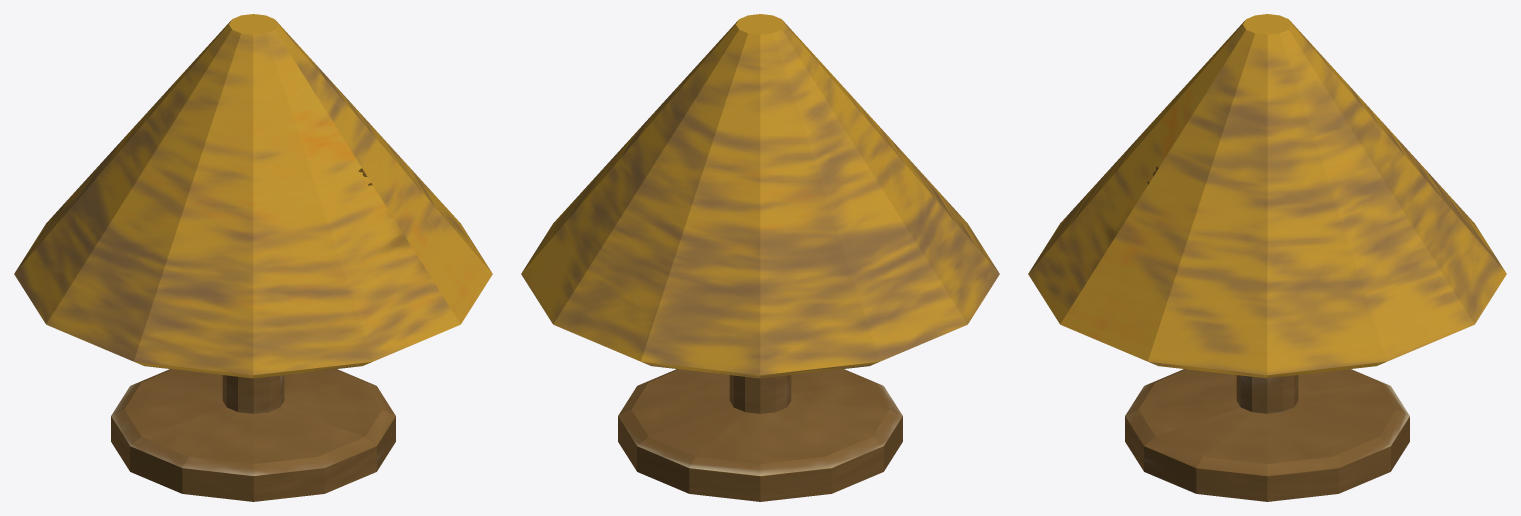
File: lampa.fbx
The picture shows the model from 3 angles, left to right: view 1: azimuth 30°, elevation 25°; view 2: azimuth 150°, elevation 25°; view 3: azimuth 270°, elevation 25°; orthographic projection.
Visible parts, largest first — view 1: Lampa; view 2: Lampa; view 3: Lampa.
Boxes of the visible parts, bbox=[...] form: Lampa: bbox=[14, 14, 492, 501]; Lampa: bbox=[521, 14, 999, 501]; Lampa: bbox=[1028, 14, 1506, 501].
Size of the model in its own units: 161 by 155 by 161.
2 materials, 1 textured.
